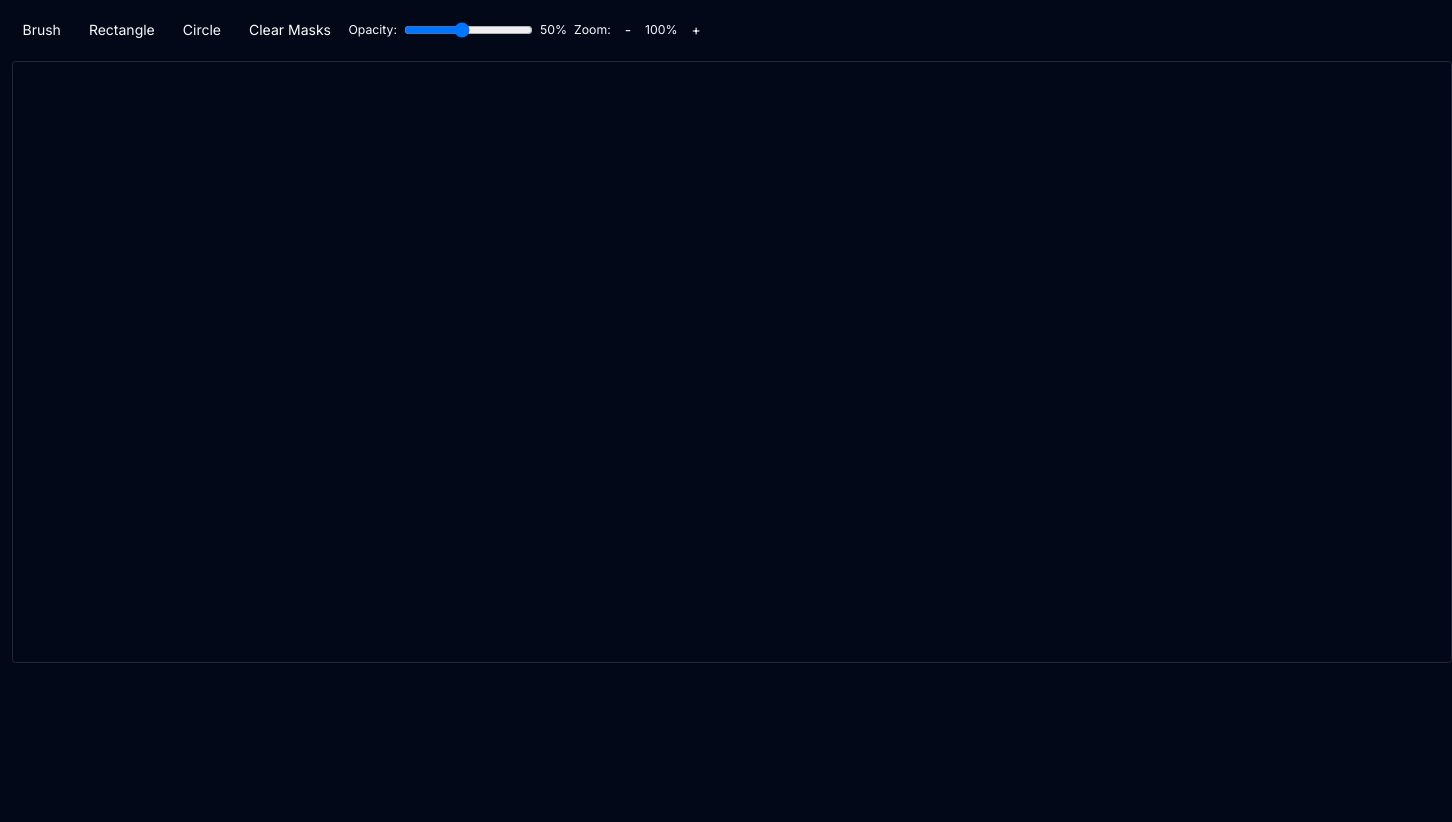
Test: CanvasInterface › Tool Activation › should show brush size control when brush tool is active
Step 1. Click the button "Brush" → (42, 30), box [12,12,71,47]
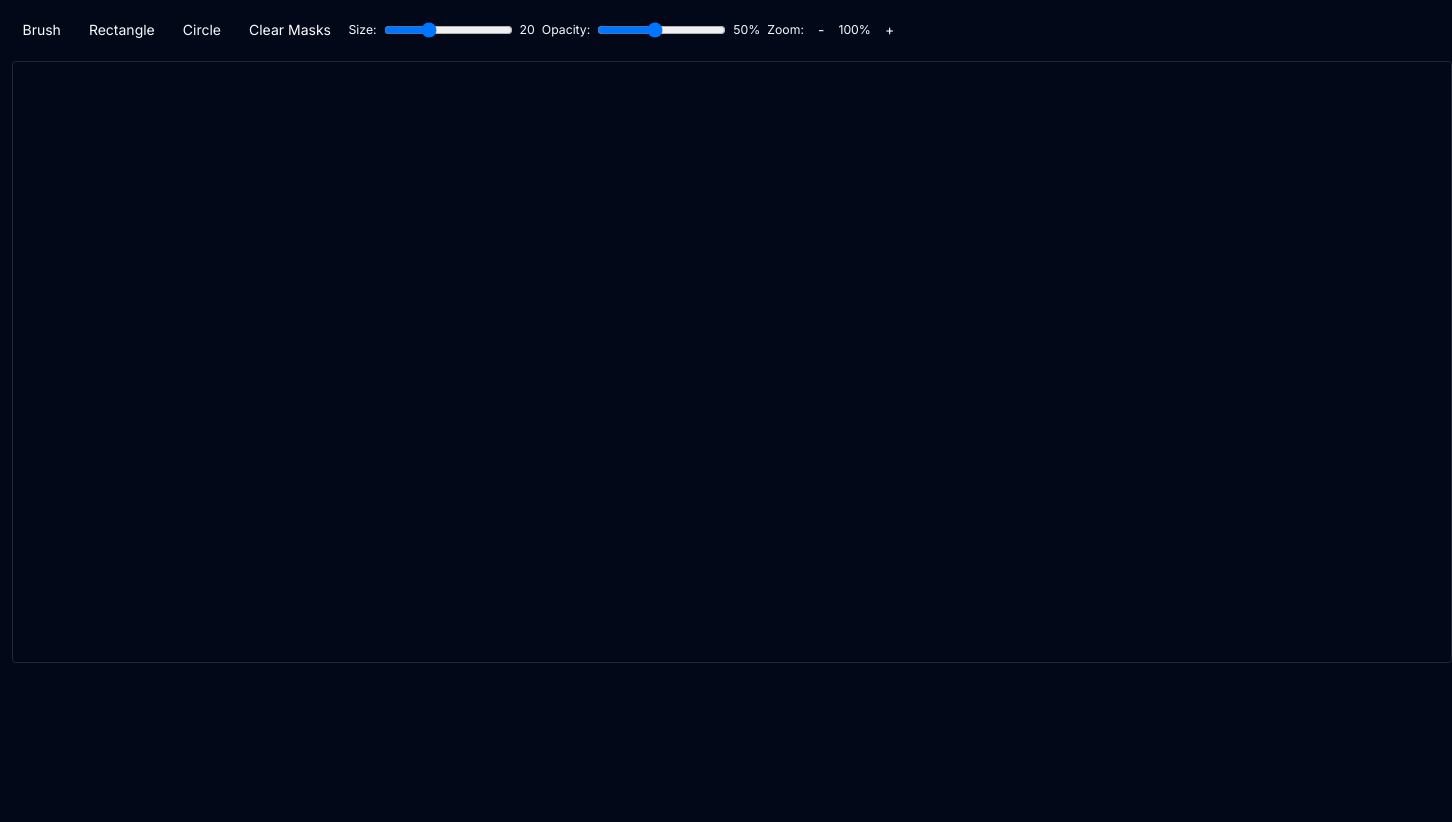
Expected: the text "Size:" is shown, [348,21,377,38]
Expected: the slider showing "20" next to "Size:" is shown, [384,22,513,38]
